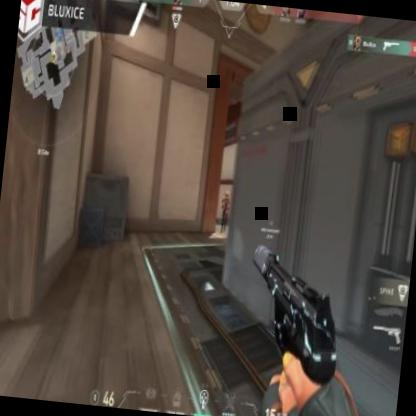enemy: (218, 190, 231, 234)
enemy_head: (224, 191, 230, 201)
